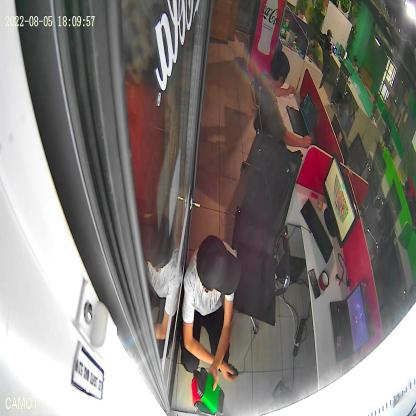green: (197, 366, 225, 415)
red: (192, 369, 217, 416)
